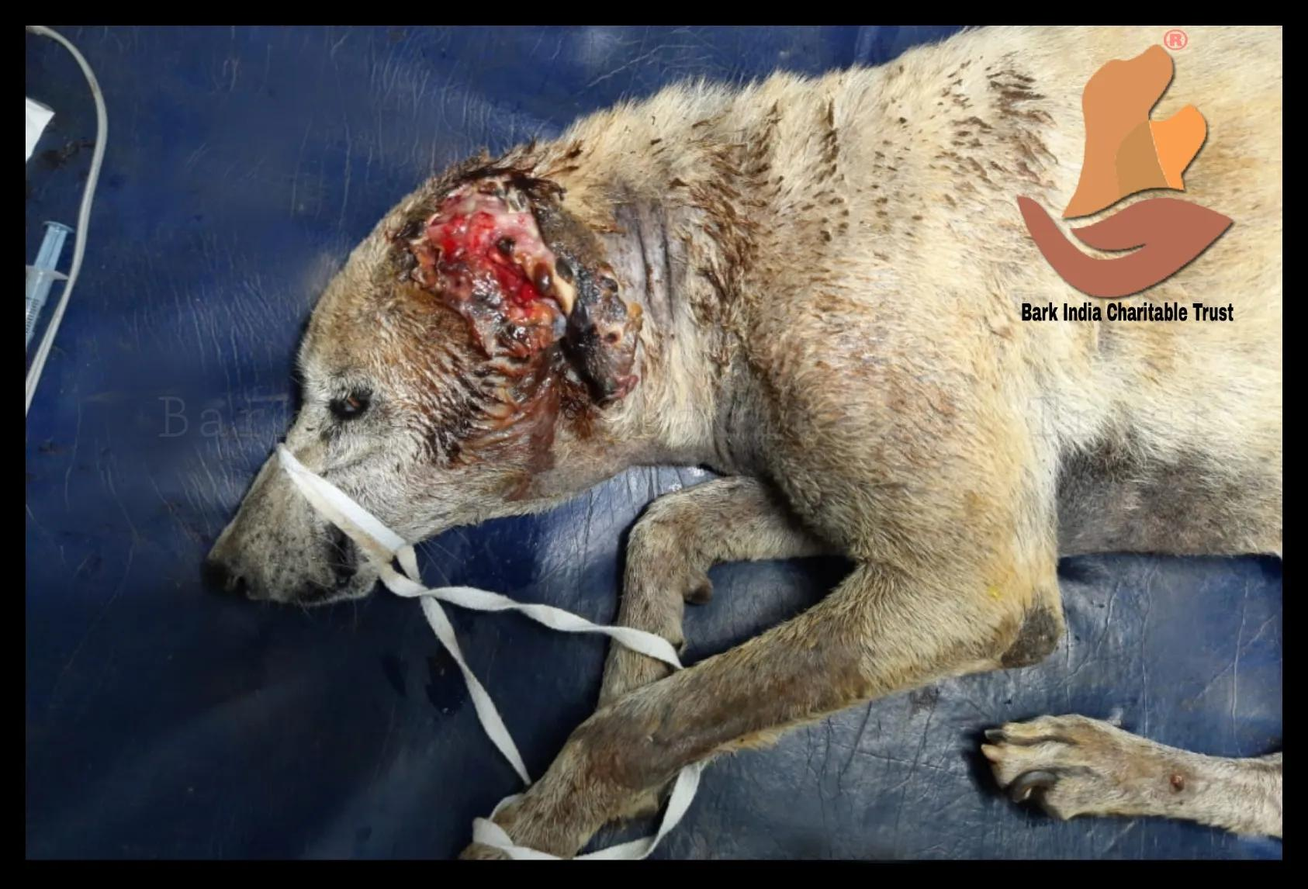cut: (349, 135, 728, 520)
